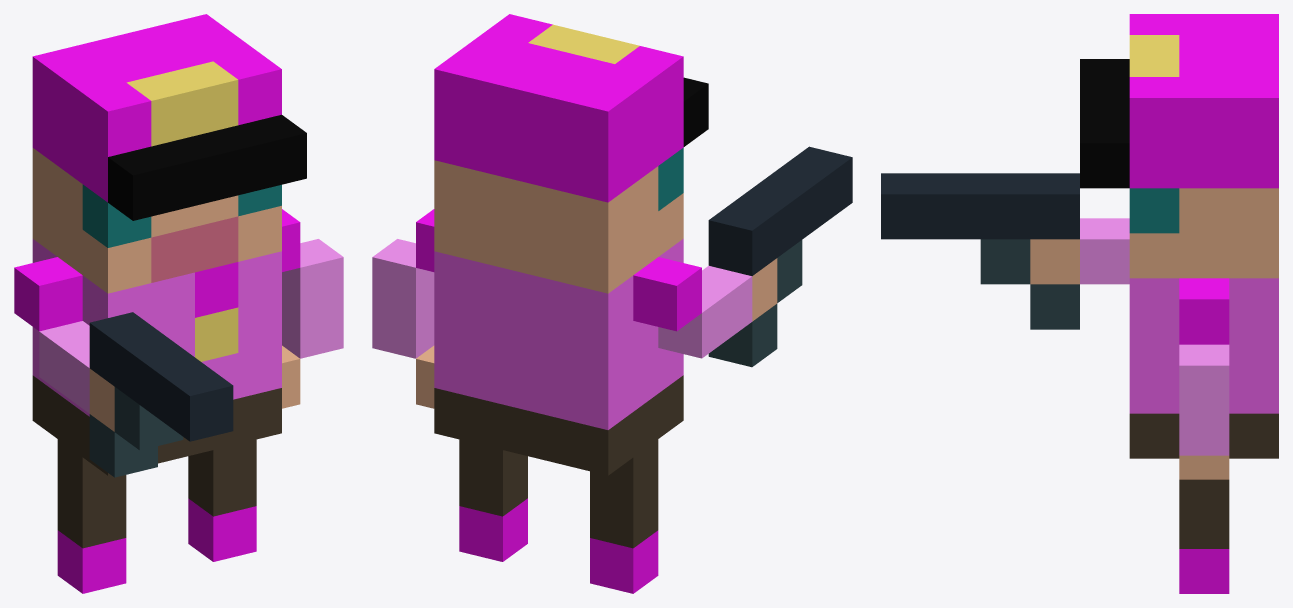
Rendered from general.obj.
3 views of the same model, side by side, from view 1: azimuth 30°, elevation 25°; view 2: azimuth 150°, elevation 25°; view 3: azimuth 270°, elevation 25° (orthographic).
Bounding box in the file's own units: 0.7 × 1.1 × 0.8.
Materials: 1 (1 with a texture image).
